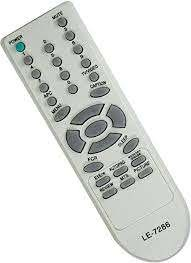remote control: (0, 5, 191, 263)
